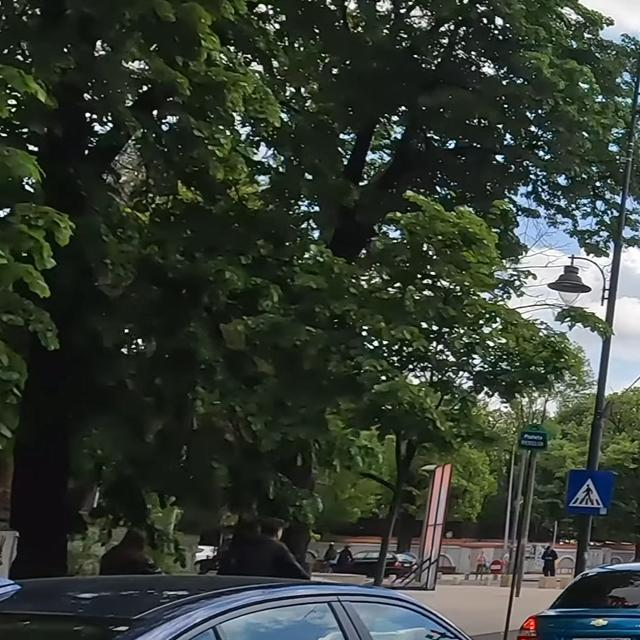info_crosswalk: (564, 469, 617, 513)
